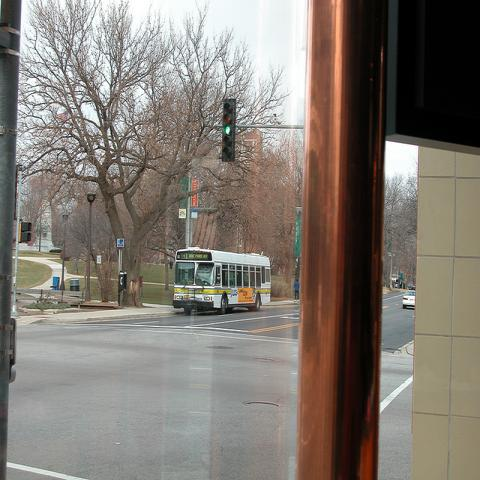bus: (170, 246, 270, 318)
car: (402, 289, 415, 310)
